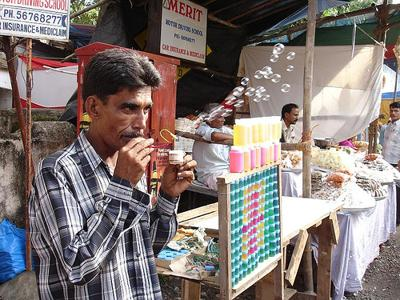person: (30, 51, 194, 298)
